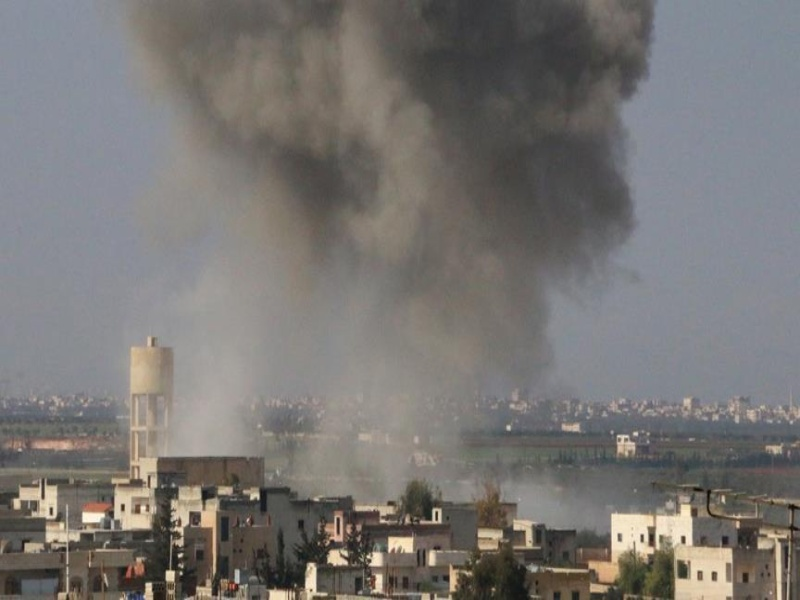smoke: (148, 1, 617, 334)
